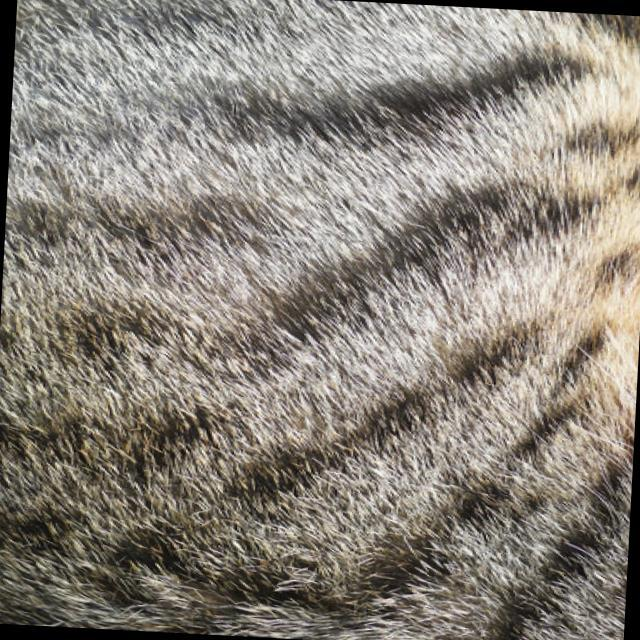Healthy skin: (137, 18, 624, 284), (323, 284, 624, 640), (21, 294, 288, 606)
